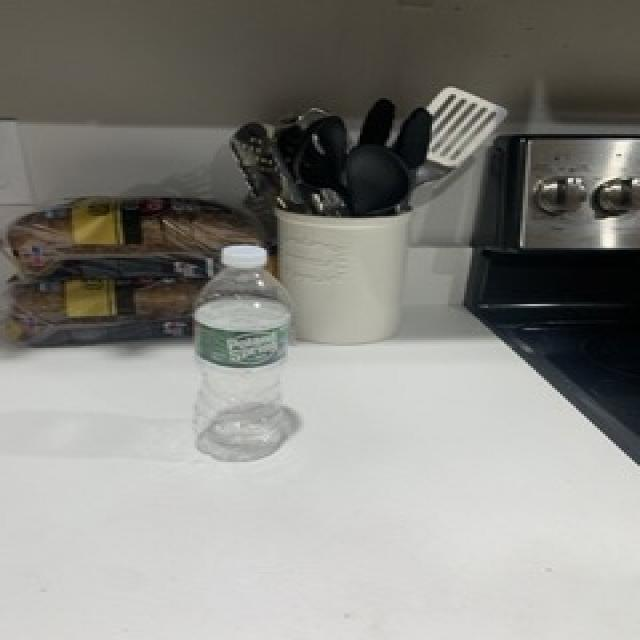water_bottle: (188, 241, 295, 466)
